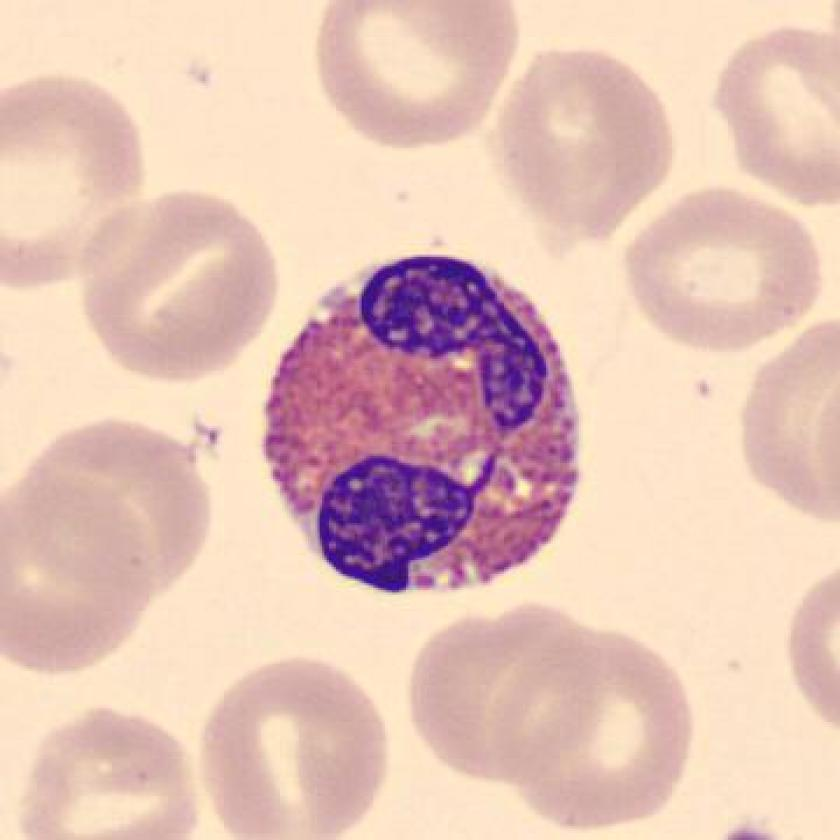eosinophil: (255, 242, 594, 612)
